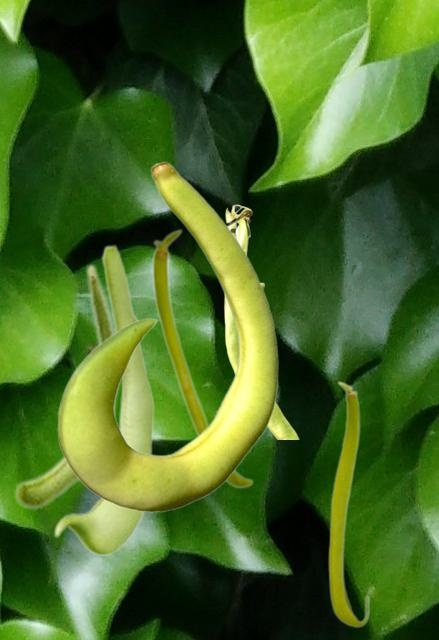french_bean: (57, 161, 278, 511), (53, 243, 153, 554), (151, 228, 253, 488), (13, 262, 120, 509), (223, 204, 298, 438), (327, 380, 369, 627)
